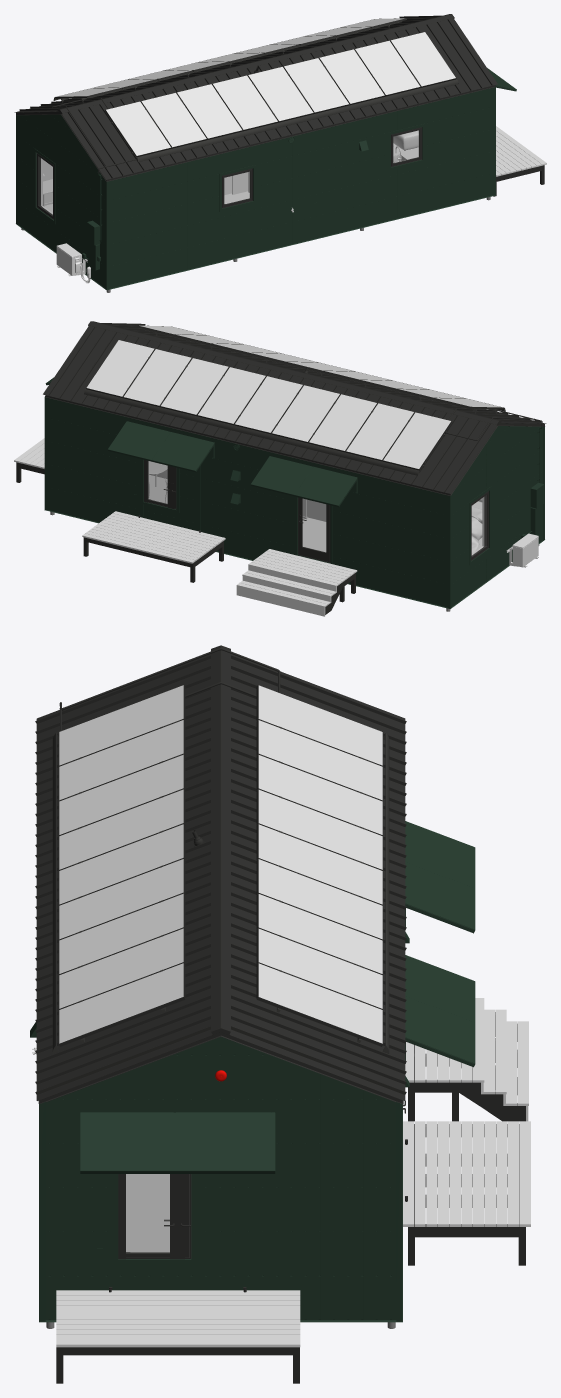
Rendered from Samara_1Bedroom.glb.
3 renders of one model, top to bottom at view 1: azimuth 30°, elevation 25°; view 2: azimuth 150°, elevation 25°; view 3: azimuth 270°, elevation 25°, orthographic. The views are drawn at different scales.
Visible parts, largest first — view 1: Wall_e_W_1B, SP_Right_1B, Wall_e_1B, Roof_1B, SP_Left_1B, Glass_1B, Shield_Right_1B, Frame_DW_1B, Frame_Around_1B, Deck_Left_1B, Window_1B, Wall_i_1B (+6 smaller); view 2: Wall_e_FrontWindow_1B, SP_Left_1B, Roof_1B, Wall_e_1B, Wall_e_FrontDoor_1B, Deck_1B, Deck_Front_1B, SP_Right_1B, Awning_DoorEnt_Front_1B, Awning_Front_1B, Wall_e_W_1B, Shield_Left_1B (+20 smaller); view 3: Roof_1B, Wall_e_LefttWindow_W_1B, SP_Left_1B, SP_Right_1B, Deck_Left_1B, Deck_Front_1B, Awning_Left_1B, Wall_e_LeftDoor_1B, Deck_1B, Awning_Front_1B, Awning_DoorEnt_Front_1B, Door_GlassLeft_1B (+13 smaller).
Part boxes in pixels (x1=…): Wall_e_W_1B: x1=17, y1=87, x2=493, y2=288; SP_Right_1B: x1=105, y1=31, x2=456, y2=157; Wall_e_1B: x1=19, y1=88, x2=489, y2=287; Roof_1B: x1=14, y1=14, x2=497, y2=181; SP_Left_1B: x1=55, y1=18, x2=406, y2=98; Glass_1B: x1=38, y1=131, x2=418, y2=215; Shield_Right_1B: x1=136, y1=79, x2=458, y2=162; Frame_DW_1B: x1=34, y1=108, x2=425, y2=257; Frame_Around_1B: x1=16, y1=86, x2=495, y2=289; Deck_Left_1B: x1=496, y1=126, x2=546, y2=176; Window_1B: x1=36, y1=127, x2=422, y2=219; Wall_i_1B: x1=41, y1=130, x2=418, y2=214; Wall_e_FrontWindow_1B: x1=47, y1=398, x2=447, y2=607; SP_Left_1B: x1=86, y1=339, x2=451, y2=470; Roof_1B: x1=43, y1=321, x2=546, y2=495; Wall_e_1B: x1=452, y1=426, x2=542, y2=605; Wall_e_FrontDoor_1B: x1=47, y1=418, x2=294, y2=559; Deck_1B: x1=236, y1=549, x2=357, y2=616; Deck_Front_1B: x1=82, y1=511, x2=225, y2=563; SP_Right_1B: x1=137, y1=325, x2=503, y2=409; Awning_DoorEnt_Front_1B: x1=250, y1=456, x2=357, y2=507; Awning_Front_1B: x1=107, y1=421, x2=214, y2=472; Wall_e_W_1B: x1=452, y1=426, x2=542, y2=606; Shield_Left_1B: x1=84, y1=389, x2=419, y2=475; Roof_1B: x1=35, y1=645, x2=406, y2=1103; Wall_e_LefttWindow_W_1B: x1=45, y1=1037, x2=396, y2=1319; SP_Left_1B: x1=256, y1=685, x2=383, y2=1046; SP_Right_1B: x1=58, y1=685, x2=185, y2=1046; Deck_Left_1B: x1=56, y1=1290, x2=300, y2=1347; Deck_Front_1B: x1=403, y1=1121, x2=530, y2=1226; Awning_Left_1B: x1=80, y1=1112, x2=275, y2=1173; Wall_e_LeftDoor_1B: x1=48, y1=1037, x2=391, y2=1319; Deck_1B: x1=405, y1=998, x2=528, y2=1121; Awning_Front_1B: x1=405, y1=955, x2=475, y2=1067; Awning_DoorEnt_Front_1B: x1=405, y1=821, x2=475, y2=933; Door_GlassLeft_1B: x1=126, y1=1174, x2=189, y2=1256.
Size of the model in its own units: 13.29 by 4.29 by 6.26.
